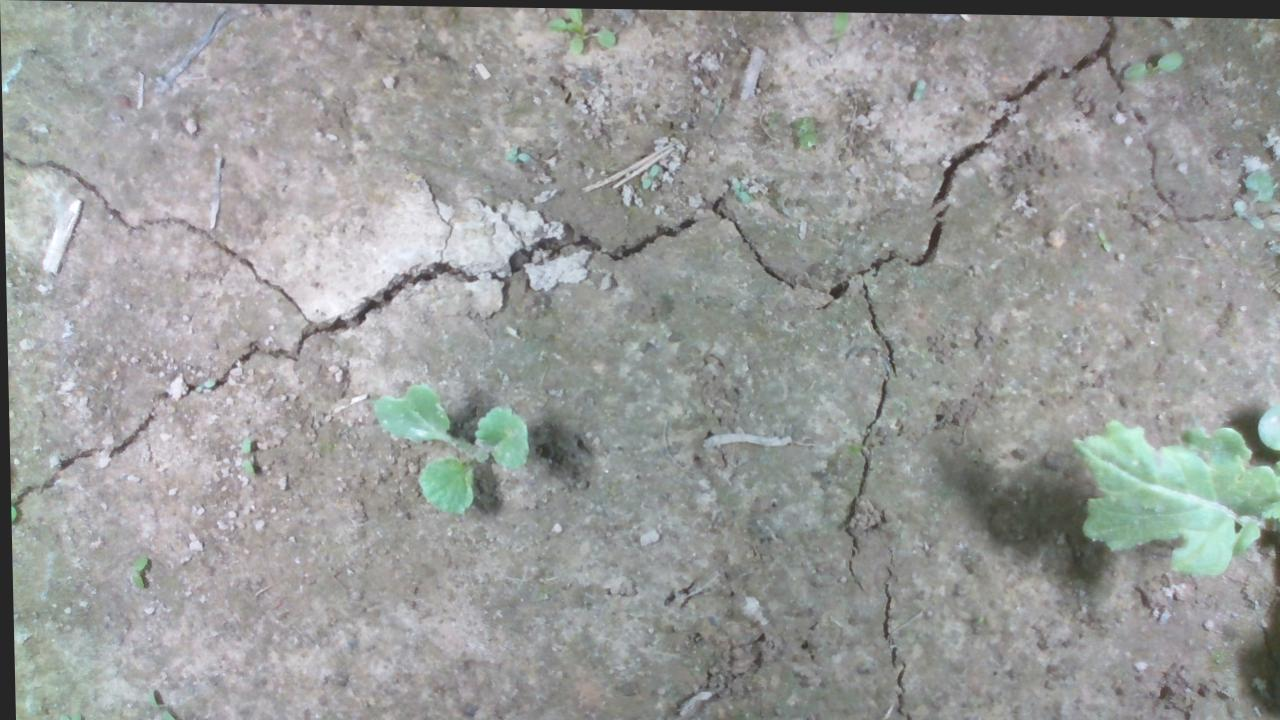weed: (1117, 41, 1172, 79), (498, 139, 542, 167), (229, 434, 254, 473)
